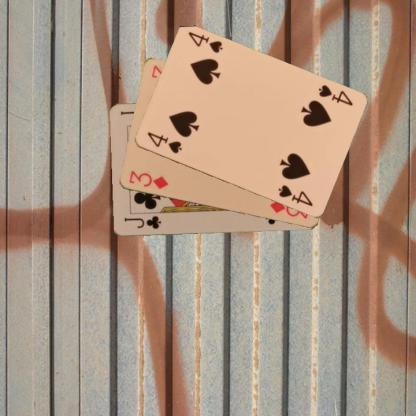3d: (126, 168, 170, 191)
4s: (314, 82, 354, 108), (144, 129, 182, 155)
Jc: (121, 214, 162, 230)
